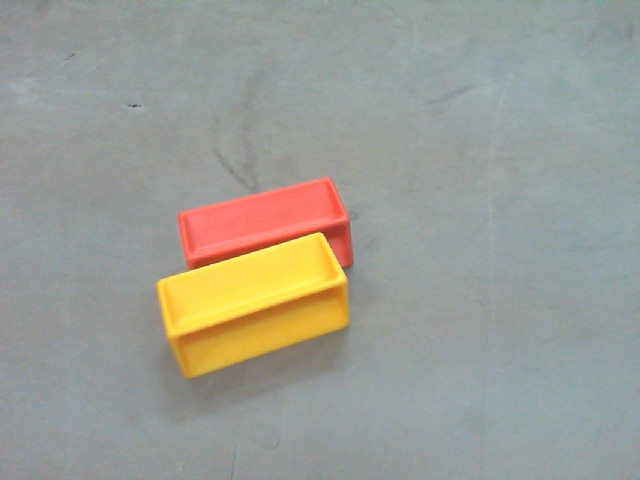RedSample: (178, 170, 352, 270)
YellowSample: (153, 228, 356, 381)
